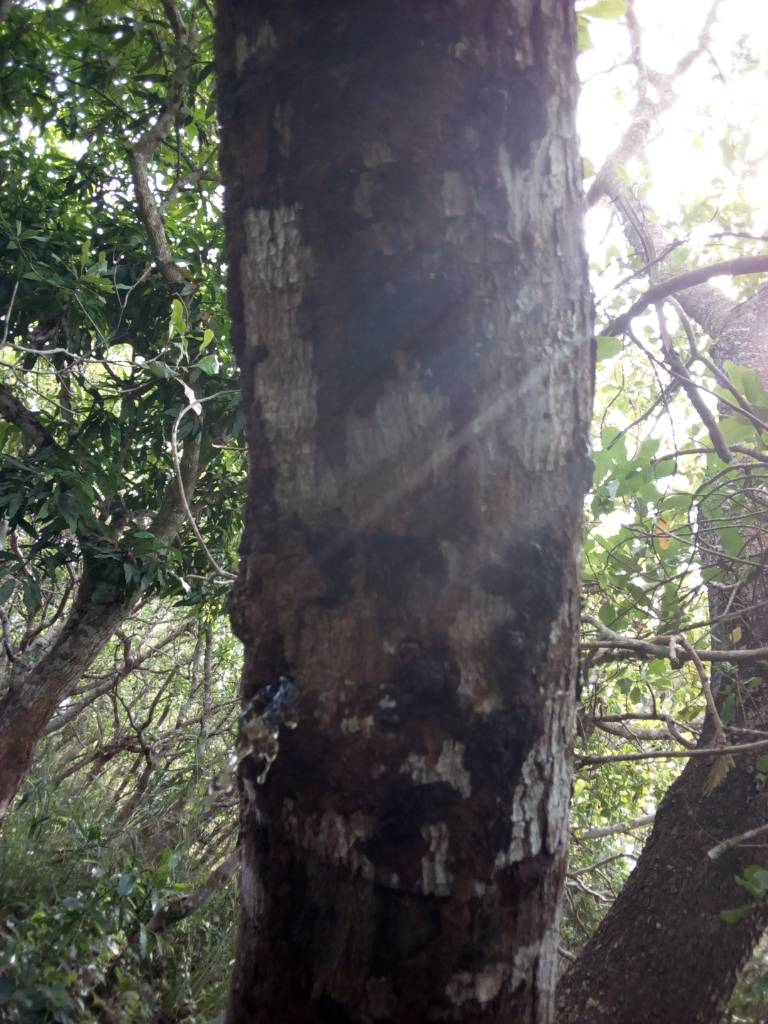Termites: (247, 3, 572, 1010)
